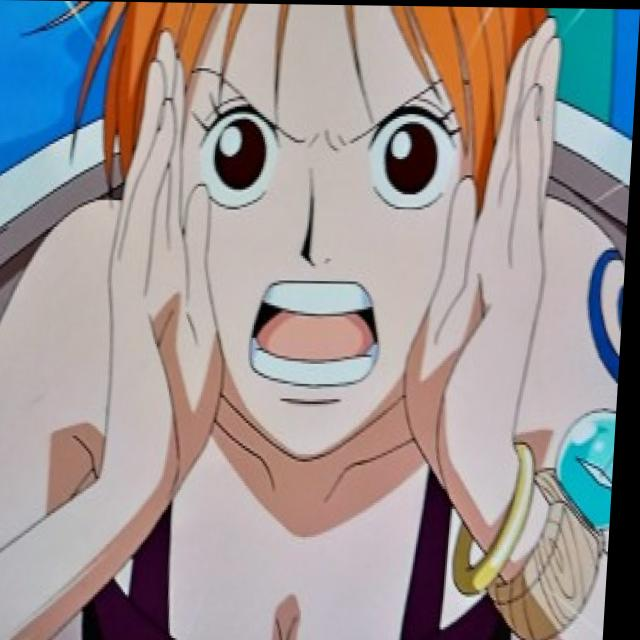Nami: (49, 1, 550, 461)
